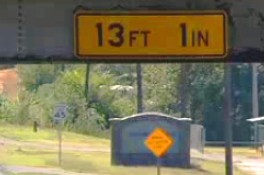1: (175, 19, 189, 49), (92, 19, 105, 49)
3: (104, 19, 126, 49)
overheadsign: (73, 11, 228, 59)
